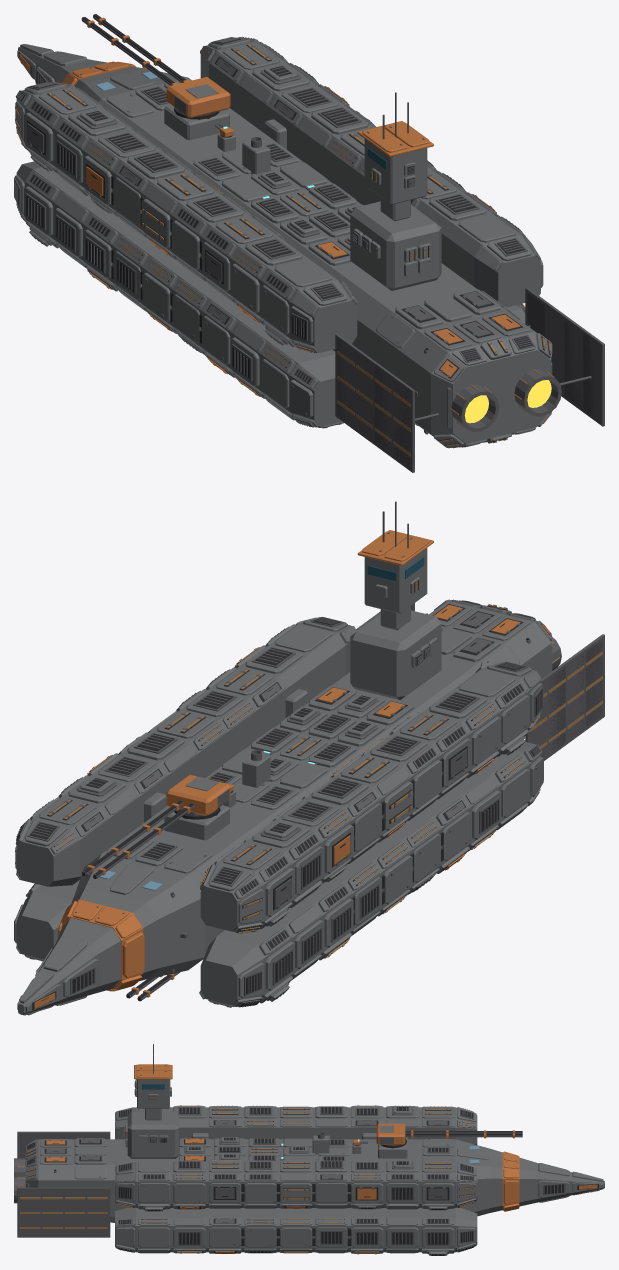
Rendered from mars_missile_cruiser_t4.glb.
3 views of the same model, one above another, from view 1: azimuth 30°, elevation 25°; view 2: azimuth 150°, elevation 25°; view 3: azimuth 270°, elevation 25° (orthographic). The views are drawn at different scales.
Visible parts, largest first — view 1: FleetHull, mesh_turret_gun_1, mesh_recoil_gun_1; view 2: FleetHull, mesh_turret_gun_1, mesh_recoil_gun_1; view 3: FleetHull, mesh_recoil_gun_1, mesh_turret_gun_1.
Part boxes in pixels (bbox=[...]): FleetHull: bbox=[14, 37, 604, 472]; mesh_turret_gun_1: bbox=[166, 77, 230, 118]; mesh_recoil_gun_1: bbox=[81, 14, 189, 85]; FleetHull: bbox=[14, 501, 604, 1015]; mesh_turret_gun_1: bbox=[166, 775, 230, 816]; mesh_recoil_gun_1: bbox=[81, 800, 194, 878]; FleetHull: bbox=[14, 1044, 604, 1255]; mesh_recoil_gun_1: bbox=[405, 1130, 522, 1138]; mesh_turret_gun_1: bbox=[376, 1123, 405, 1145].
Bounding box in the file's own units: 81.9 × 97.74 × 277.
